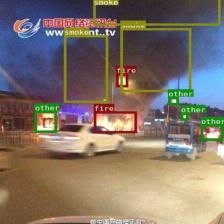fire: (93, 111, 136, 133), (116, 73, 128, 87)
smoke: (120, 28, 191, 91), (93, 0, 220, 26), (64, 34, 108, 102)
